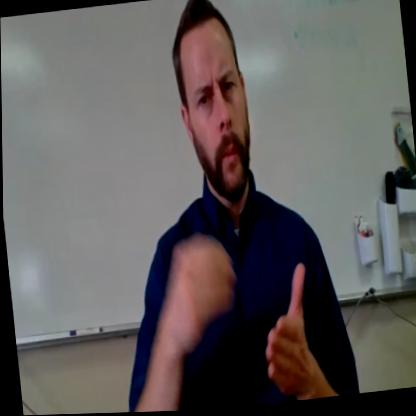Expensive: (157, 209, 323, 412)
